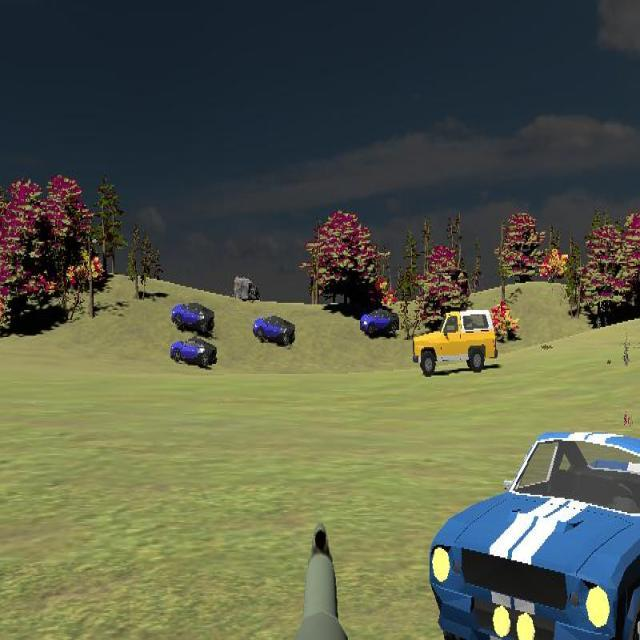car: (413, 310, 497, 377), (170, 336, 217, 369), (170, 300, 215, 332), (253, 313, 295, 347), (360, 307, 400, 339)
